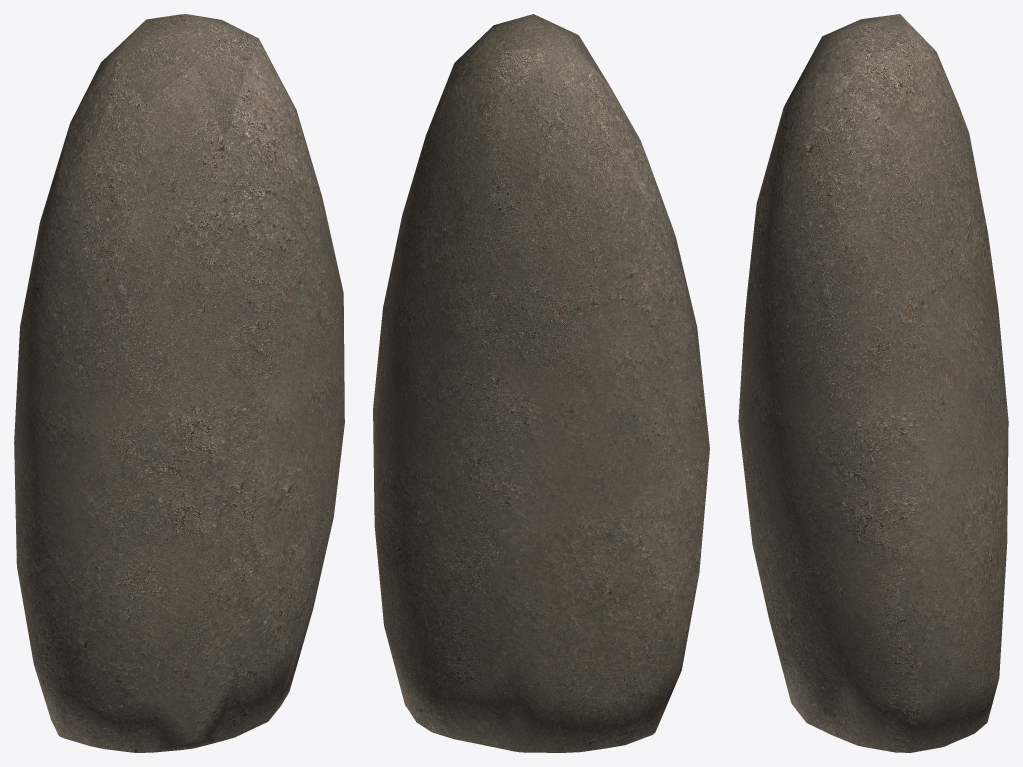
The model's file is standing_stone_01.glb.
3 renders of one model, left to right at view 1: azimuth 30°, elevation 25°; view 2: azimuth 150°, elevation 25°; view 3: azimuth 270°, elevation 25°, orthographic. The views are drawn at different scales.
Parts seen in each view (by area): view 1: standing_stone_01; view 2: standing_stone_01; view 3: standing_stone_01.
Part boxes in pixels (x1,y1,x2,y2): standing_stone_01: [14, 14, 344, 752]; standing_stone_01: [373, 14, 709, 752]; standing_stone_01: [738, 14, 1008, 752].
Size of the model in its own units: 1.28 by 2.73 by 0.9862.
Materials: 1 (1 with a texture image).
